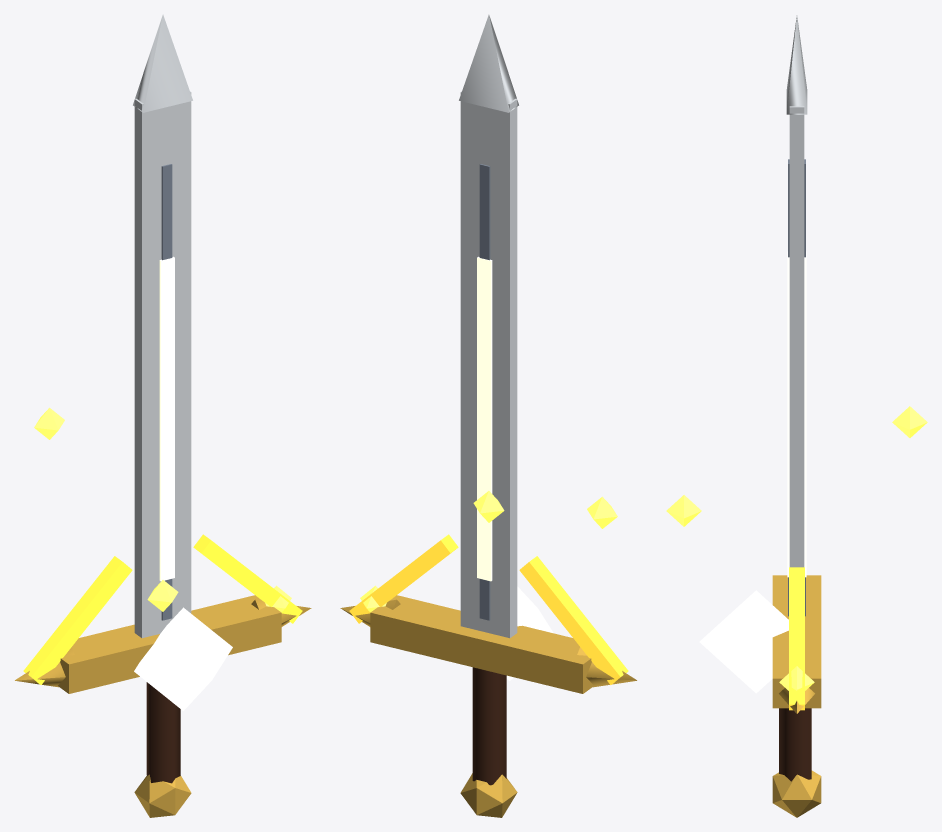
File: legend_sword_dawnstar.glb
3 views of the same model, side by side, from view 1: azimuth 30°, elevation 25°; view 2: azimuth 150°, elevation 25°; view 3: azimuth 270°, elevation 25° (orthographic).
Visible parts, largest first — view 1: item_metal3, item_trim3, item_legendWhite, item_legendGlow, item_rune, item_leather3, item_legendSpark, item_darkMetal3; view 2: item_metal3, item_trim3, item_legendGlow, item_rune, item_leather3, item_darkMetal3, item_legendSpark, item_legendWhite; view 3: item_metal3, item_trim3, item_legendWhite, item_leather3, item_legendGlow, item_rune, item_legendSpark.
Part boxes in pixels (left/top/right/bottom): item_metal3: left=133, top=14, right=192, bottom=638; item_trim3: left=15, top=595, right=311, bottom=817; item_legendWhite: left=134, top=607, right=232, bottom=710; item_legendGlow: left=23, top=534, right=302, bottom=684; item_rune: left=159, top=256, right=174, bottom=581; item_leather3: left=146, top=682, right=180, bottom=783; item_legendSpark: left=34, top=407, right=291, bottom=612; item_darkMetal3: left=161, top=164, right=172, bottom=620; item_metal3: left=459, top=14, right=518, bottom=638; item_trim3: left=340, top=595, right=636, bottom=817; item_legendGlow: left=349, top=534, right=628, bottom=684; item_rune: left=477, top=256, right=492, bottom=581; item_leather3: left=472, top=667, right=506, bottom=785; item_darkMetal3: left=479, top=164, right=490, bottom=620; item_legendSpark: left=360, top=491, right=617, bottom=612; item_legendWhite: left=506, top=586, right=553, bottom=680; item_metal3: left=786, top=15, right=807, bottom=567; item_trim3: left=772, top=575, right=821, bottom=817; item_legendWhite: left=699, top=590, right=788, bottom=693; item_leather3: left=779, top=708, right=811, bottom=781; item_legendGlow: left=789, top=567, right=804, bottom=710; item_rune: left=787, top=251, right=806, bottom=577; item_legendSpark: left=666, top=406, right=927, bottom=690.
Bounding box in the file's own units: 0.42 × 1.08 × 0.3211.
